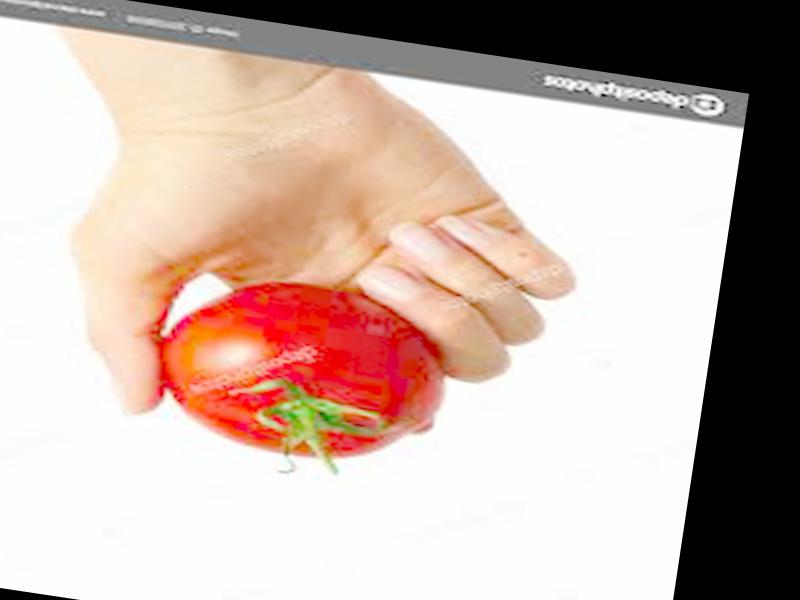Tomato: (149, 263, 451, 477)
